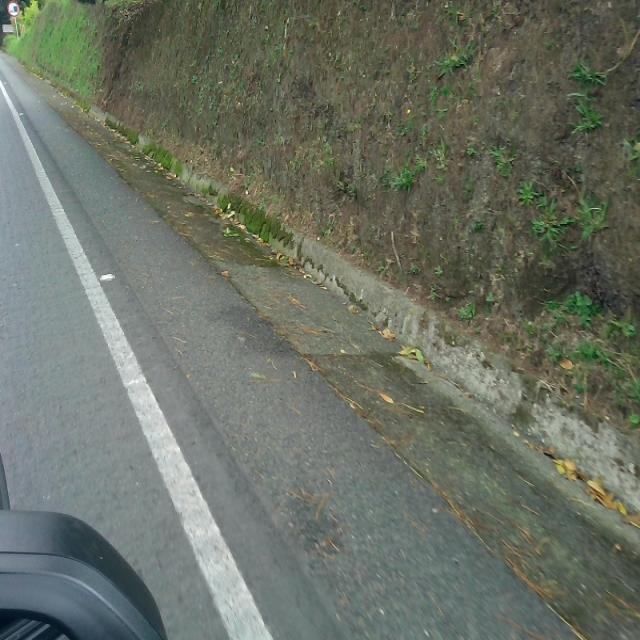DITCH: (1, 26, 638, 639), (2, 47, 638, 638), (52, 14, 638, 638)
